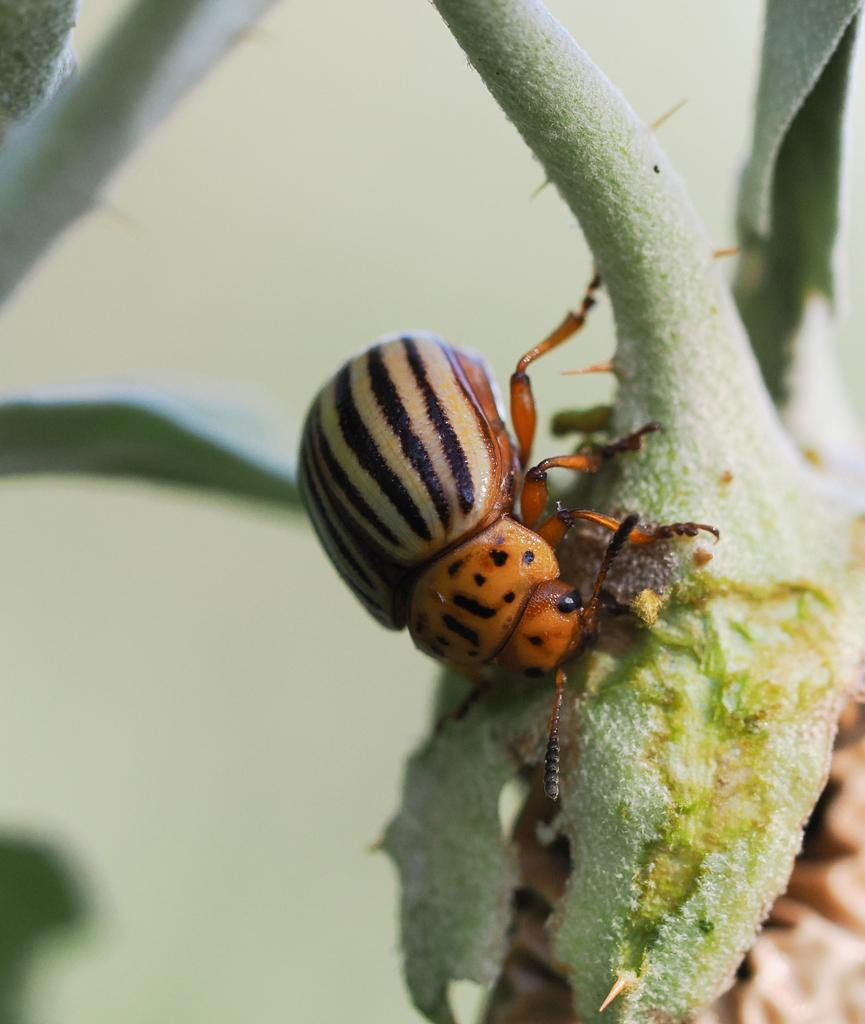potato_beetle: (229, 252, 747, 861)
